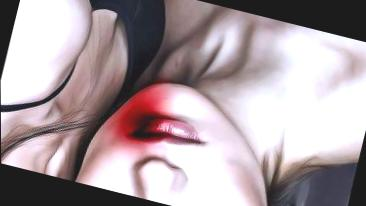Fire: (102, 83, 177, 146)
